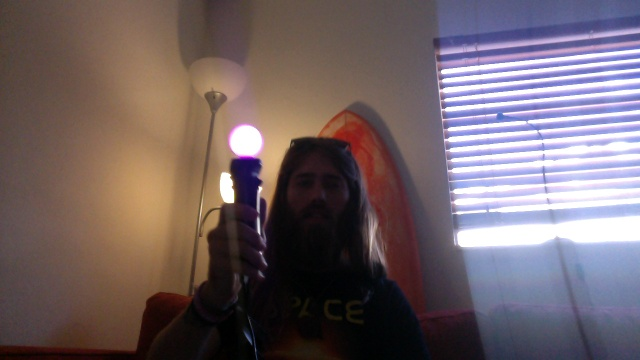wand: (230, 125, 263, 156)
